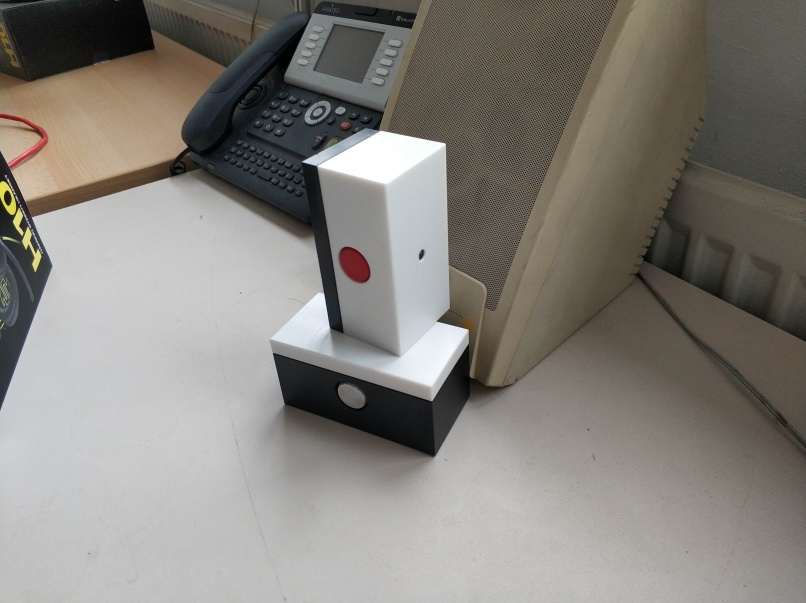black+white+red: (298, 126, 455, 359)
white+black+silver: (268, 289, 476, 462)
